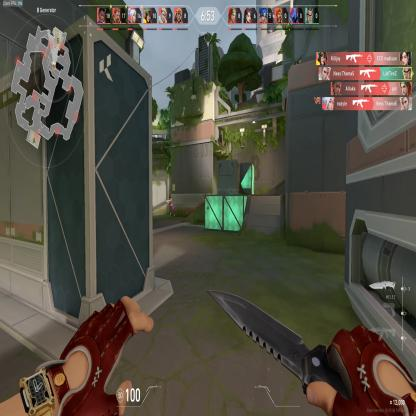enemy: (166, 195, 174, 217)
